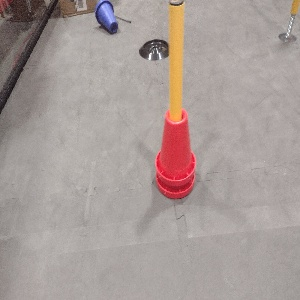Blue_1: (91, 0, 120, 39)
Red_2: (150, 105, 197, 200)
